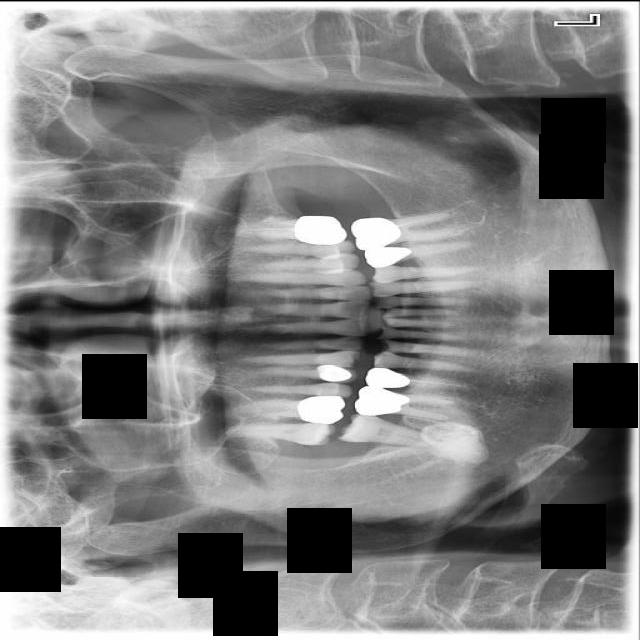52: (348, 210, 404, 253), (353, 384, 407, 420), (291, 214, 349, 245), (363, 240, 413, 270), (298, 393, 346, 424), (365, 366, 411, 389), (317, 362, 358, 384)
73: (395, 208, 464, 244), (400, 391, 459, 422), (231, 216, 298, 239), (407, 372, 474, 391), (594, 34, 604, 38)
Caries: (227, 420, 337, 446)
Implant: (337, 411, 434, 446)
Keystone Dental Implant: (417, 406, 496, 471)
